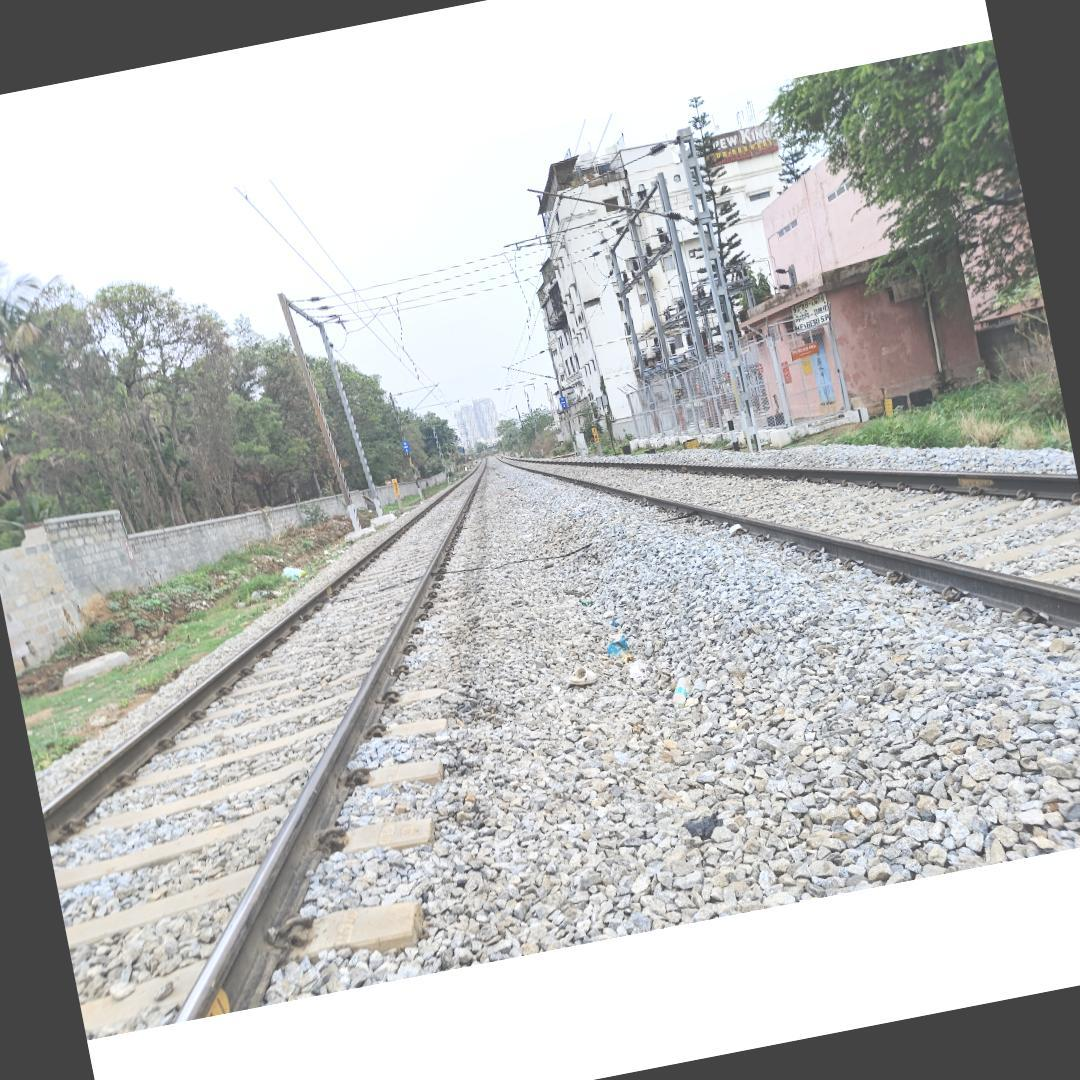track: (35, 454, 502, 1041), (507, 445, 1080, 671)
